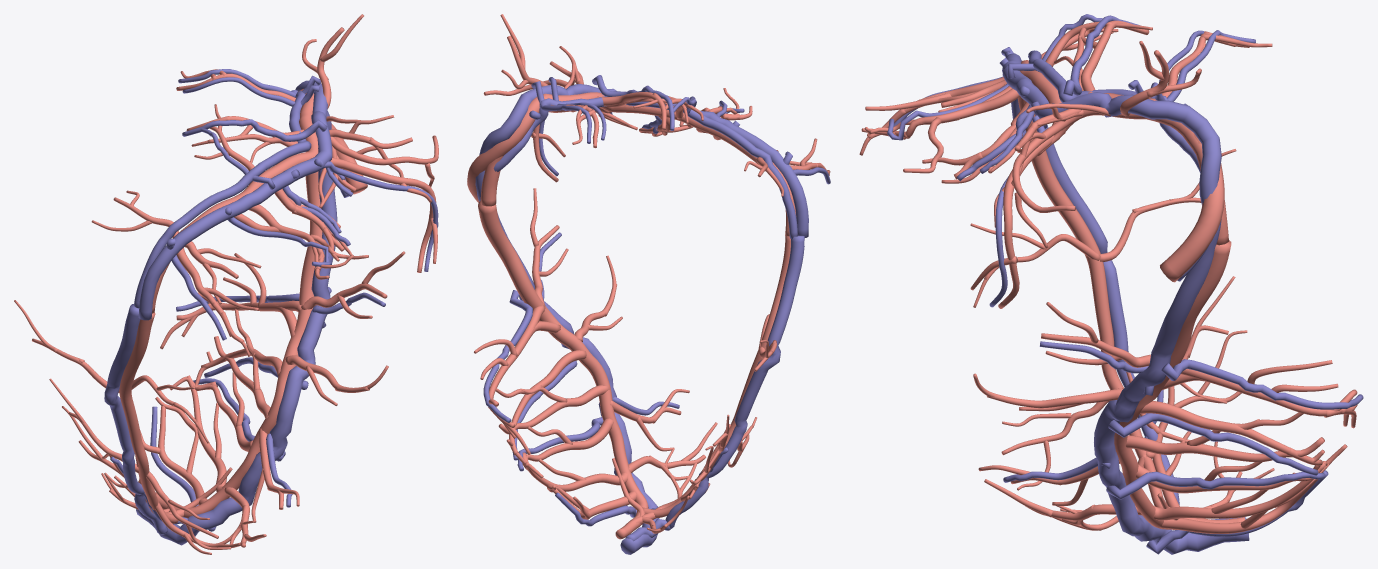
The model's file is vessels_45.glb.
3 renders of one model, left to right at view 1: azimuth 30°, elevation 25°; view 2: azimuth 150°, elevation 25°; view 3: azimuth 270°, elevation 25°, orthographic. The views are drawn at different scales.
Parts seen in each view (by area): view 1: Renderer Node; view 2: Renderer Node; view 3: Renderer Node.
Boxes of the visible parts, bbox=[...] form: Renderer Node: bbox=[14, 14, 438, 554]; Renderer Node: bbox=[467, 14, 830, 554]; Renderer Node: bbox=[859, 14, 1363, 554].
Bounding box in the file's own units: 89.38 × 119 × 88.99.
